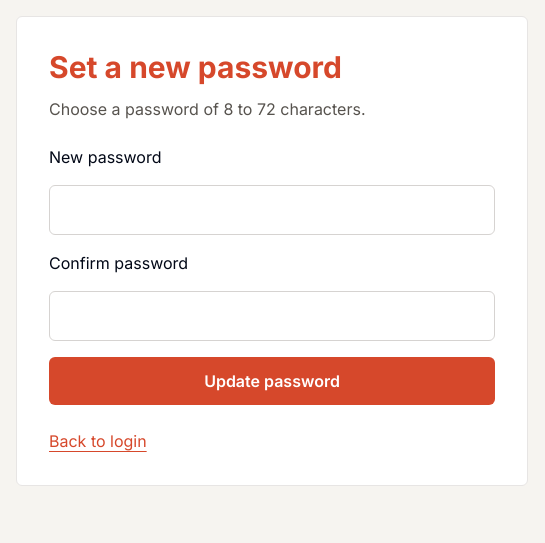
Test: keeps expired-link errors visible and the form usable
Type "Password123!" into the password field labelled "New password".
click(272, 210); type("Password123!")  # box [49,185,495,235]
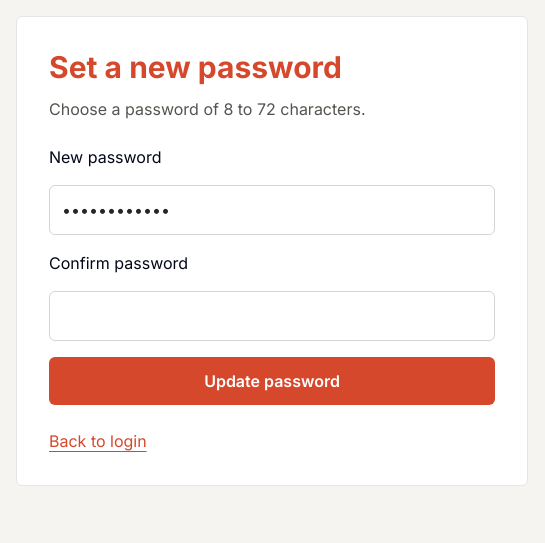
Type "Password123!" into the password field labelled "Confirm password".
click(272, 316); type("Password123!")  # box [49,291,495,341]
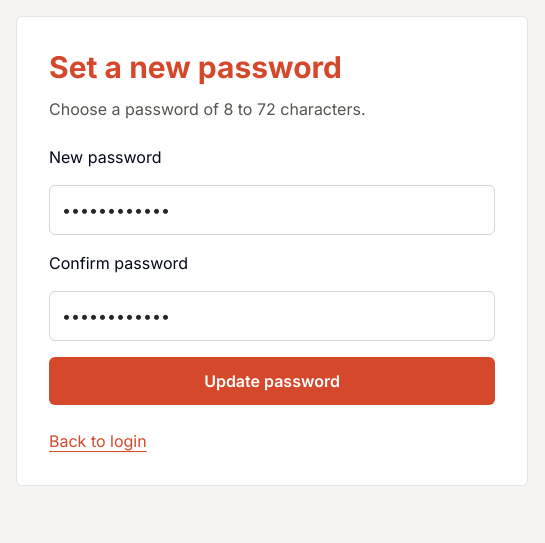
Click the button "Update password".
click(272, 381)  # box [49,357,495,405]
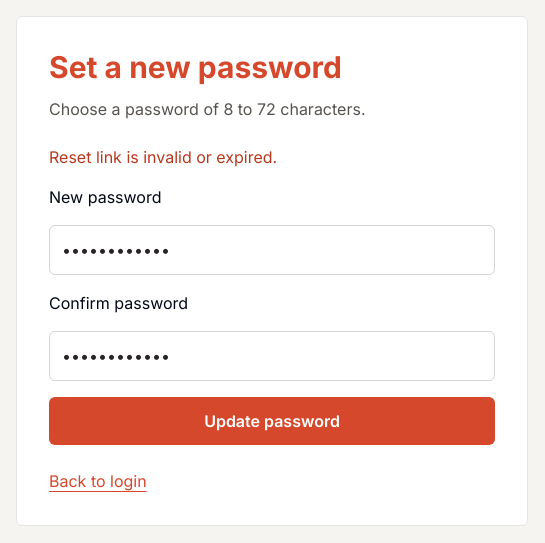
Expected: the button "Update password" is enabled, [49,397,495,445]
Expected: the message shows "expired", [49,147,277,167]
